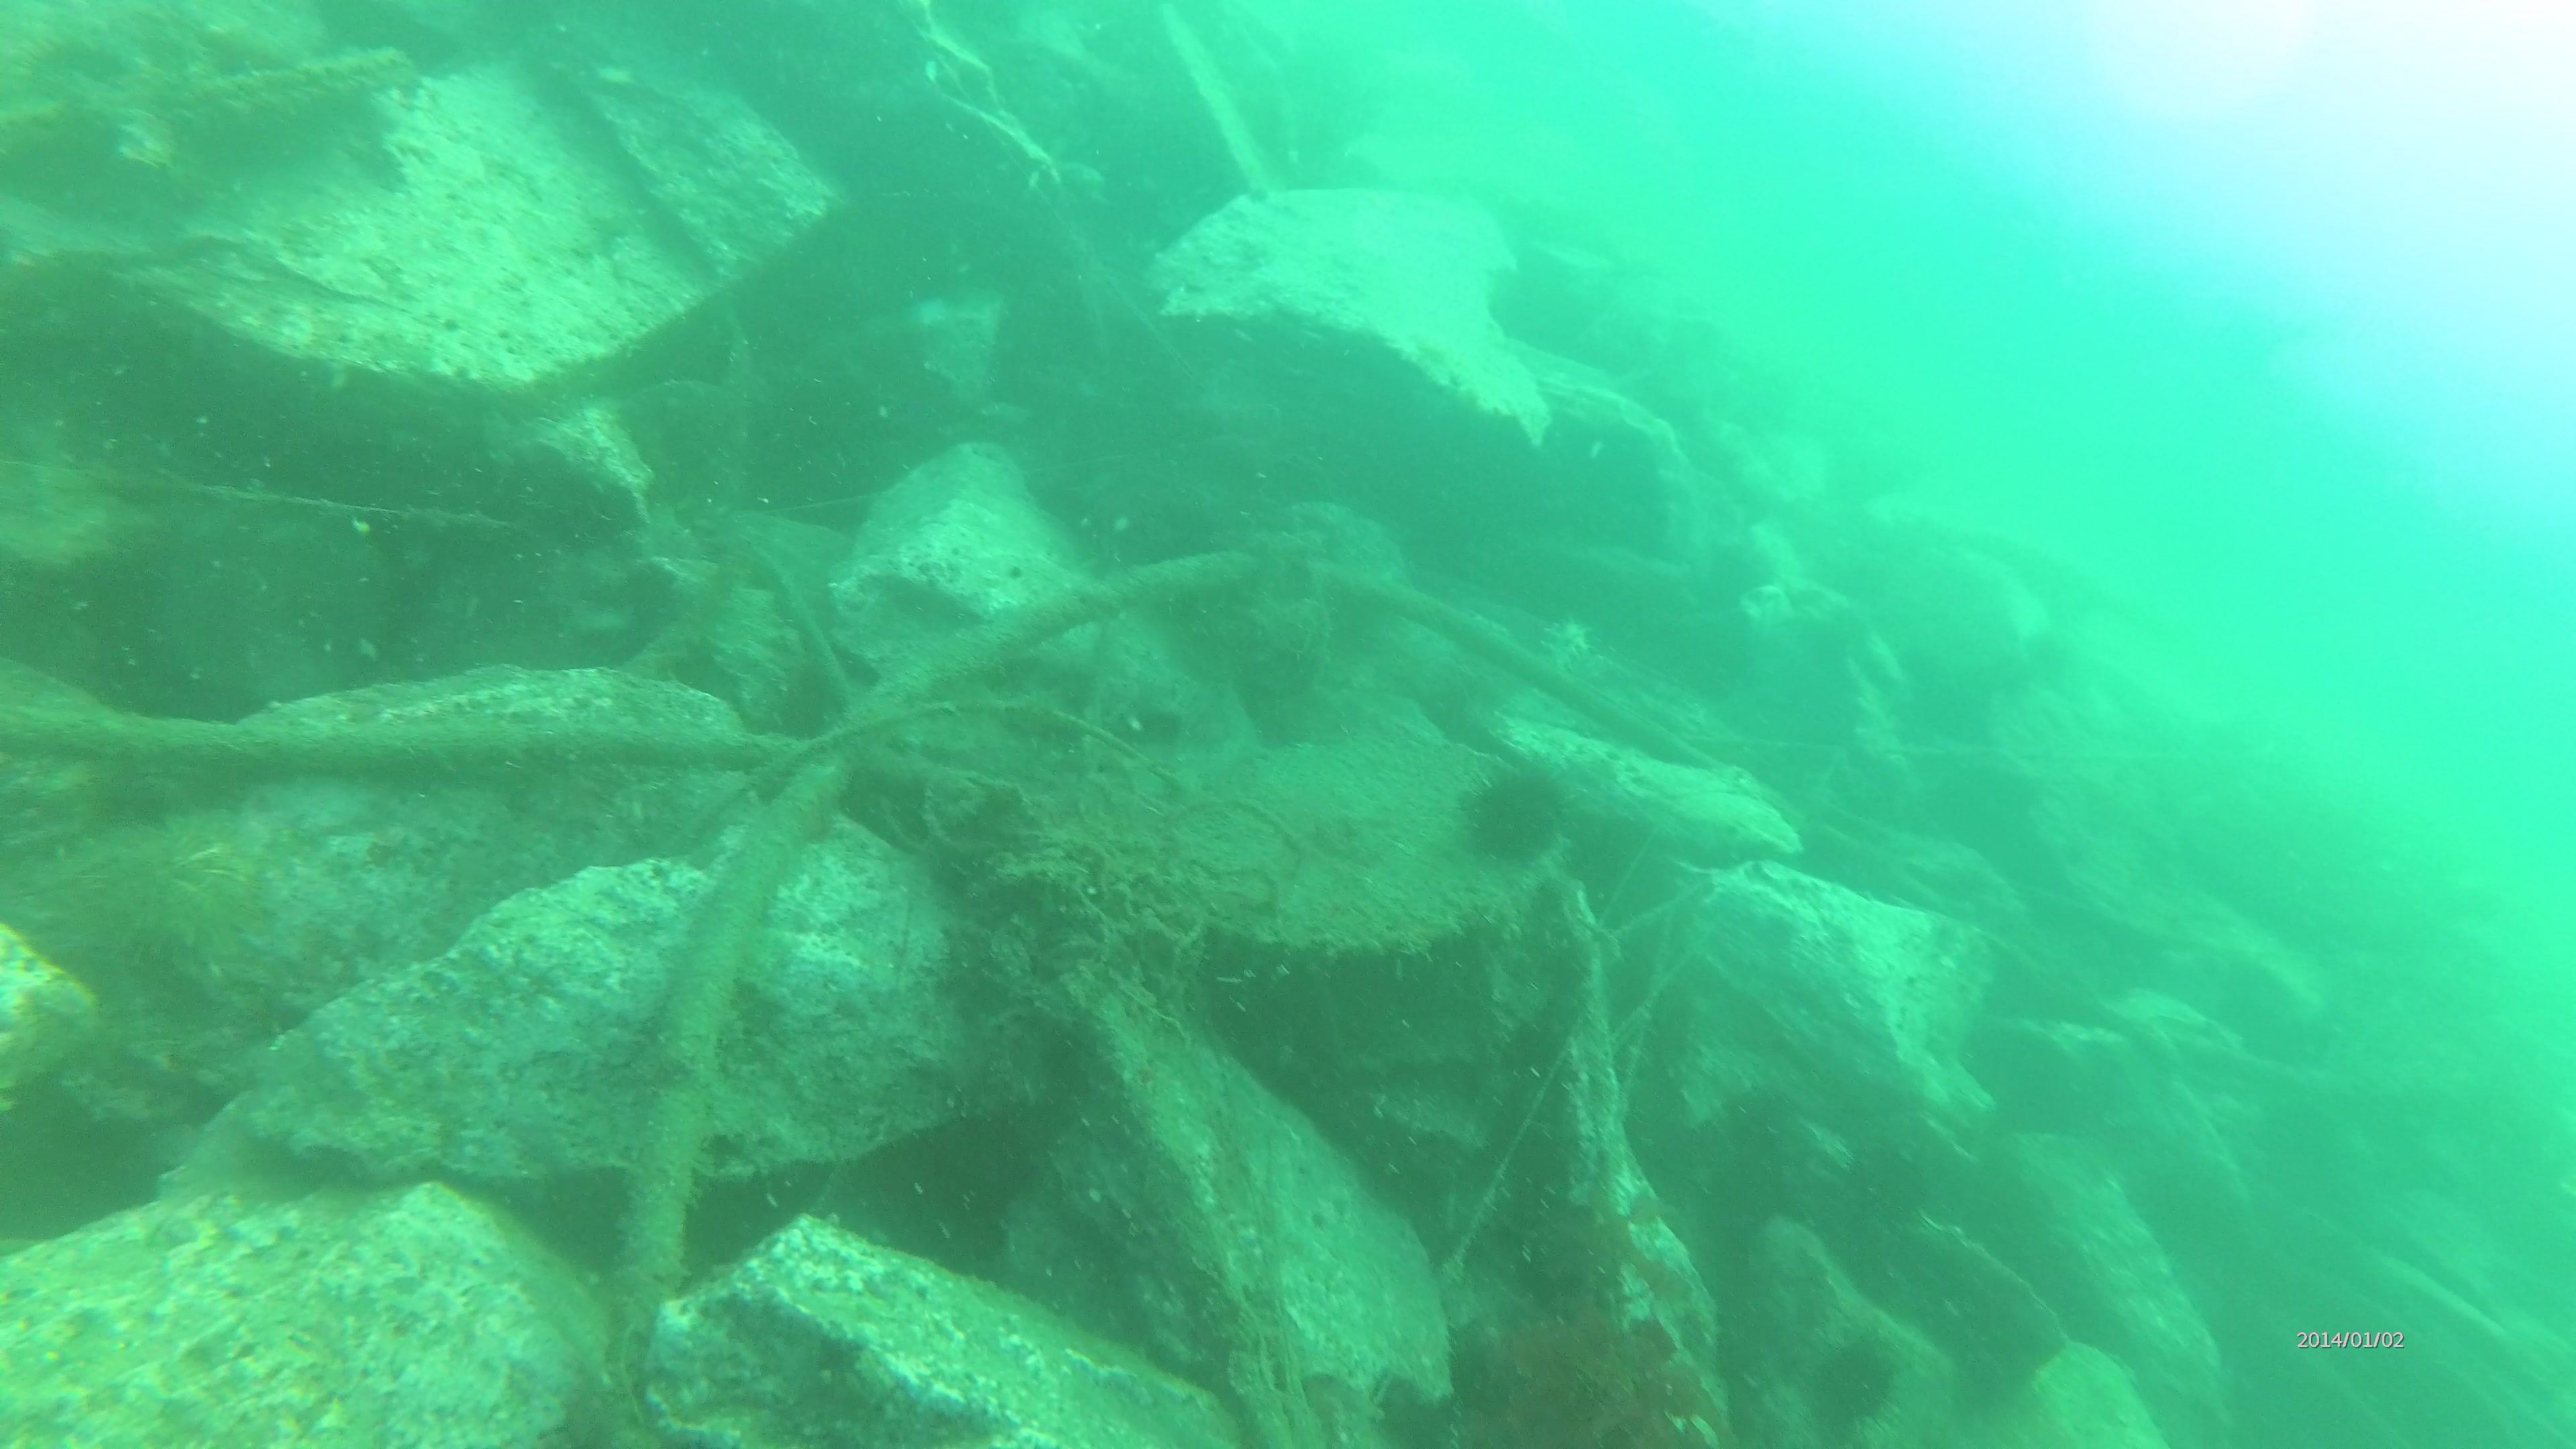echinus: (1451, 752, 1587, 883), (1810, 1330, 1904, 1430)
